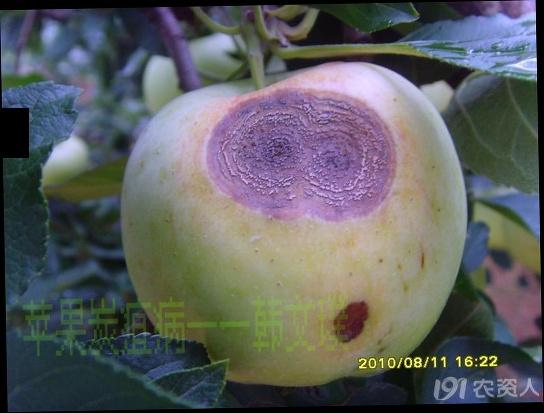rotten apple: (120, 58, 470, 392), (331, 300, 377, 347)
